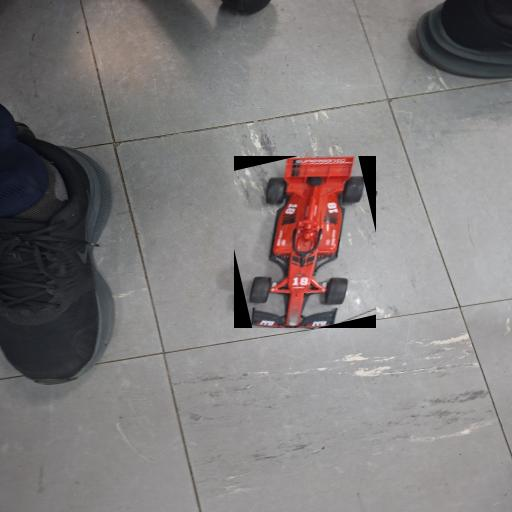carro: (236, 156, 376, 328)
